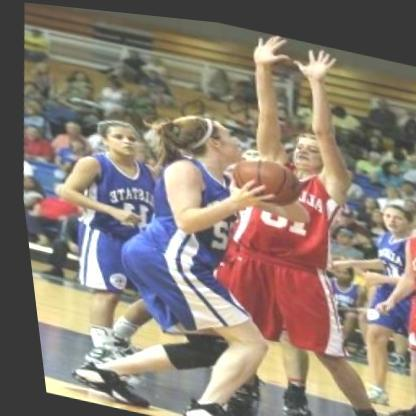basketball: (220, 143, 305, 206)
